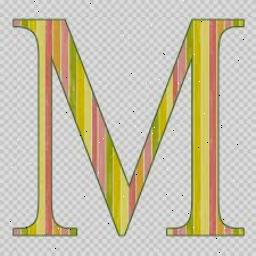m: (8, 12, 250, 244)
